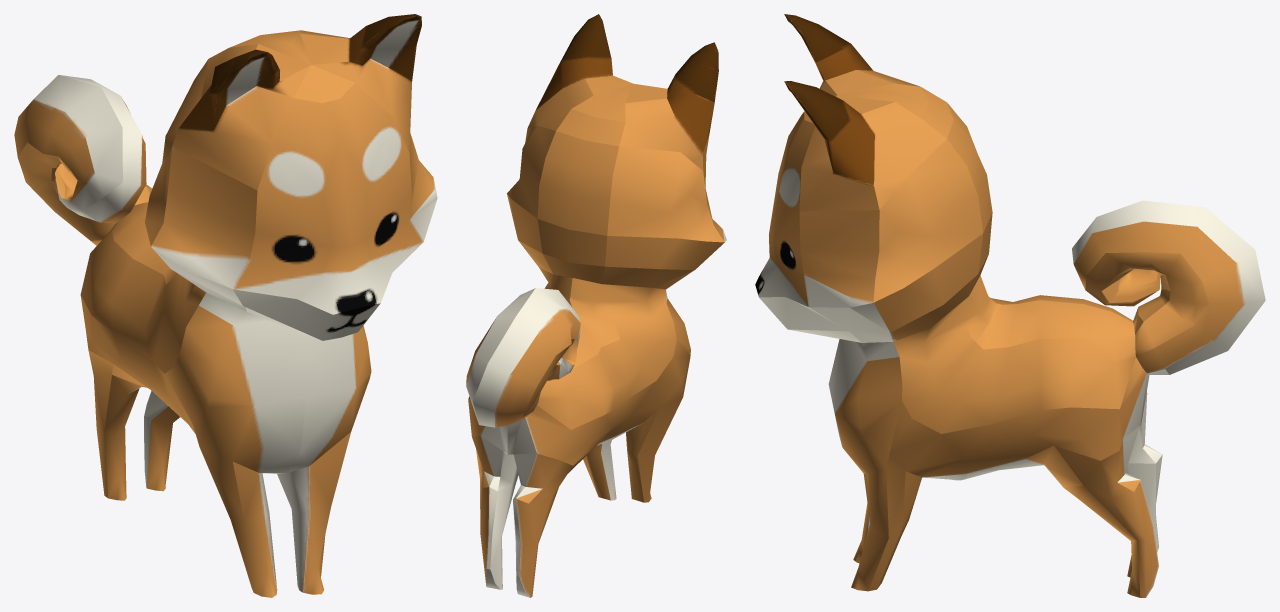
File: tailWagging_frame5.obj
The picture shows the model from 3 angles, left to right: view 1: azimuth 30°, elevation 25°; view 2: azimuth 150°, elevation 25°; view 3: azimuth 270°, elevation 25°; orthographic projection. The views are drawn at different scales.
Parts seen in each view (by area): view 1: newRigging:BodzL1; view 2: newRigging:BodzL1; view 3: newRigging:BodzL1.
Part boxes in pixels (x1,y1,x2,y2): newRigging:BodzL1: (14, 14, 437, 597); newRigging:BodzL1: (466, 14, 726, 597); newRigging:BodzL1: (755, 14, 1265, 597).
Bounding box in the file's own units: 3.91 × 7.94 × 6.81.
Materials: 1 (1 with a texture image).
